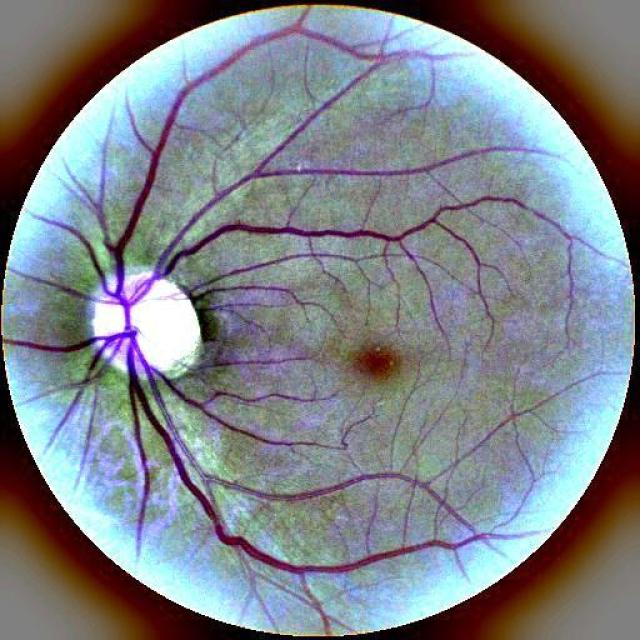Macula: (354, 346, 399, 380)
Nerves: (110, 21, 485, 578)
Optic Disk: (91, 272, 201, 375)
